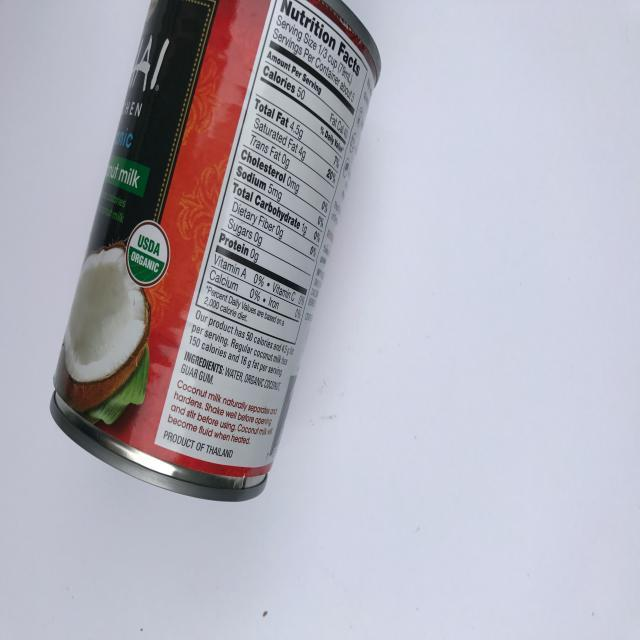metal: (50, 1, 382, 506)
